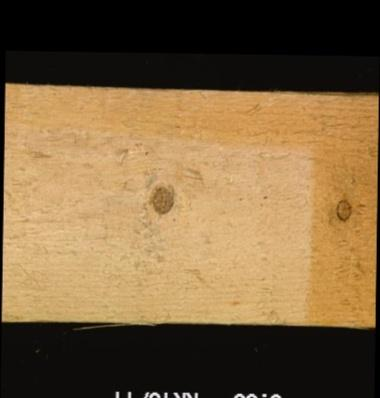dry_knot: (334, 197, 352, 221)
sound_knot: (149, 183, 173, 215)
